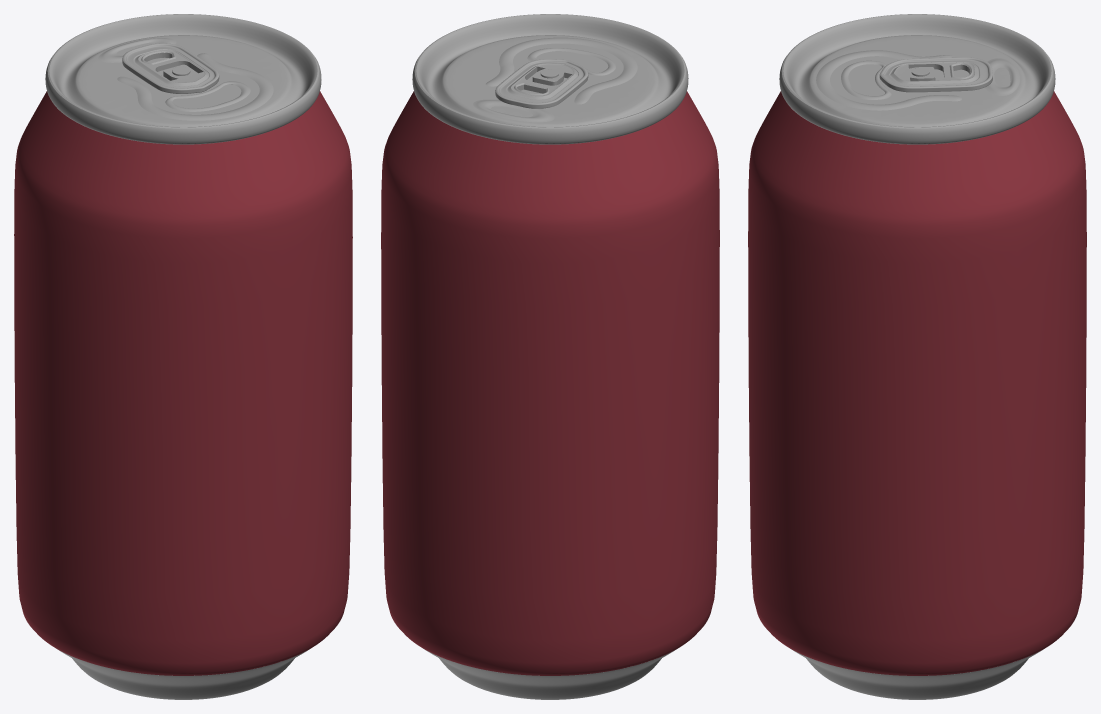
File: CokeCan.glb
3 renders of one model, left to right at view 1: azimuth 30°, elevation 25°; view 2: azimuth 150°, elevation 25°; view 3: azimuth 270°, elevation 25°, orthographic.
Parts seen in each view (by area): view 1: Soda Can; view 2: Soda Can; view 3: Soda Can.
Part boxes in pixels (left/top/right/bottom): Soda Can: left=14, top=14, right=352, bottom=699; Soda Can: left=381, top=14, right=719, bottom=699; Soda Can: left=748, top=14, right=1086, bottom=699.
Bounding box in the file's own units: 0.1024 × 0.1955 × 0.1024.
